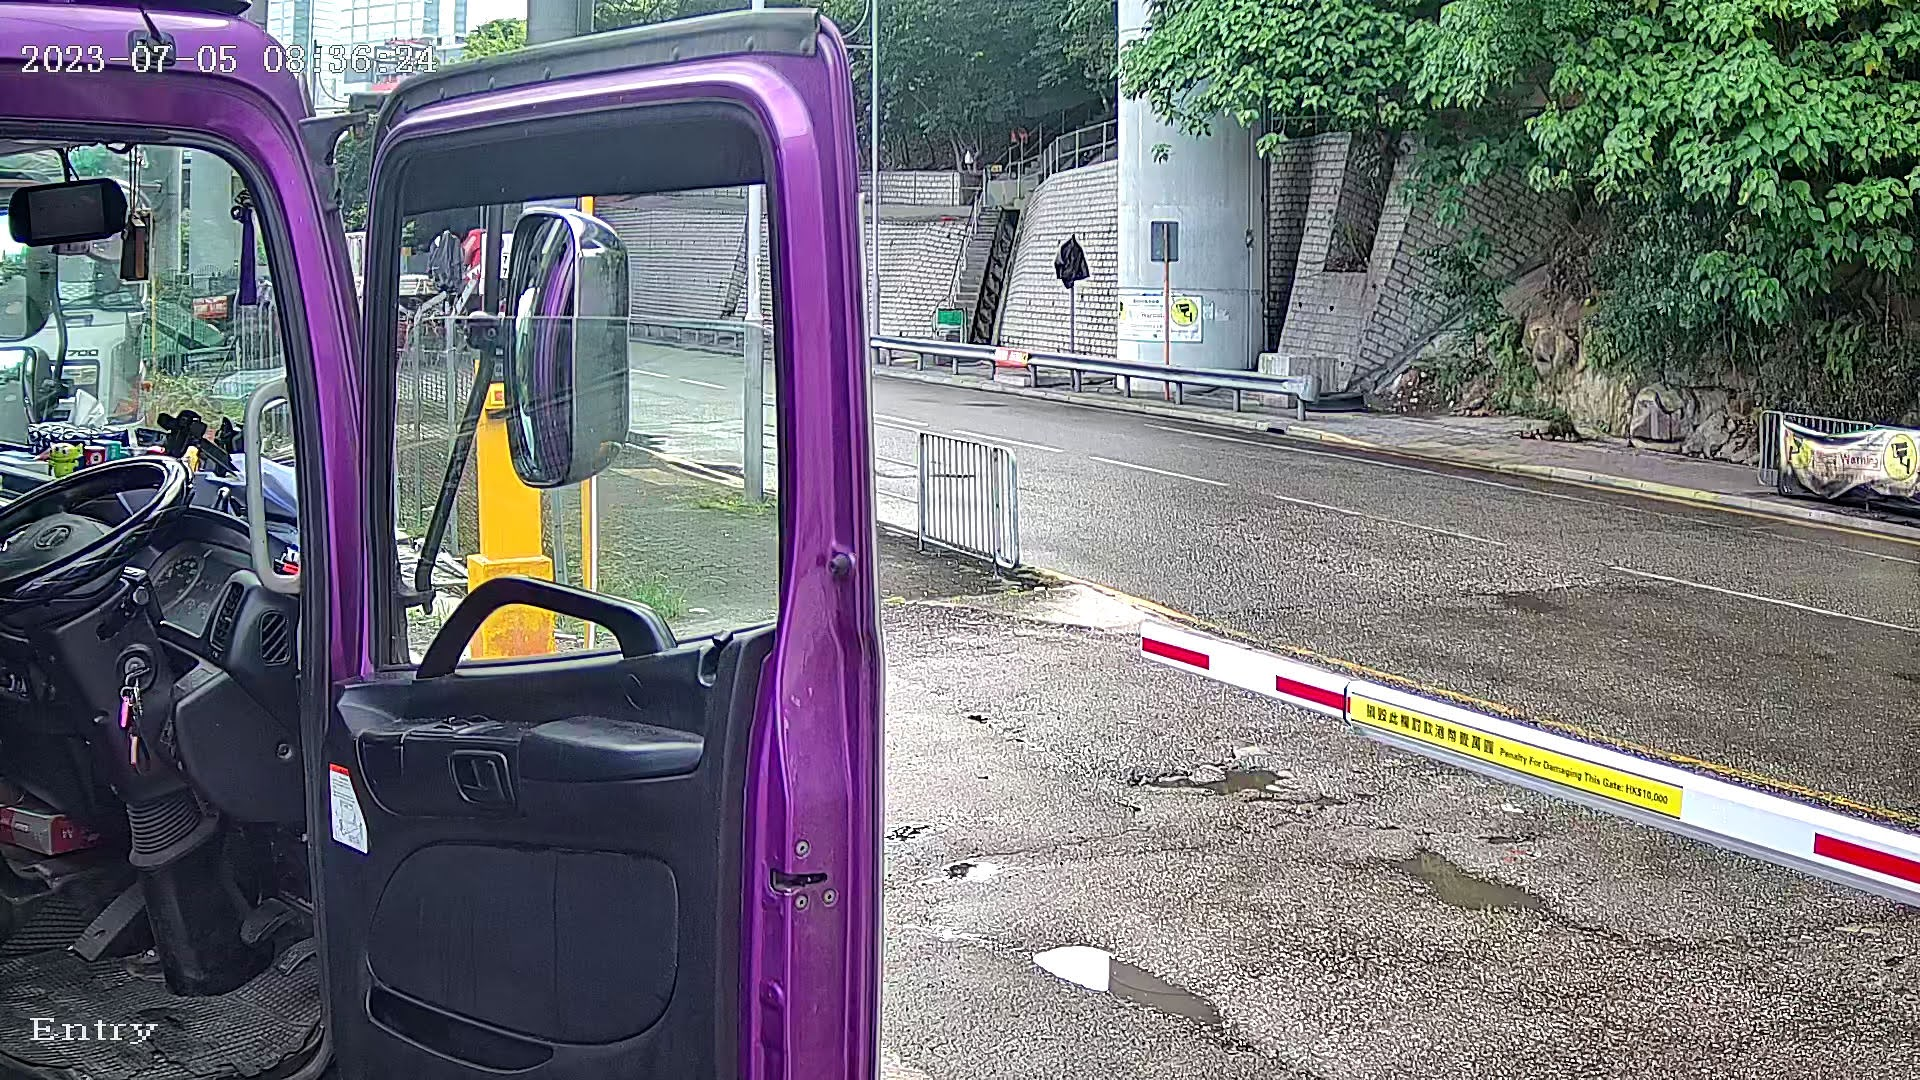truck: (1, 3, 913, 1075)
